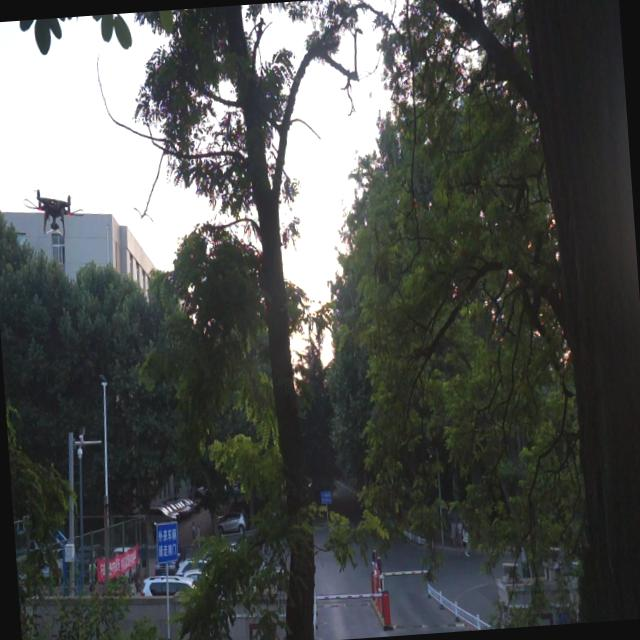drone: (20, 183, 86, 245)
